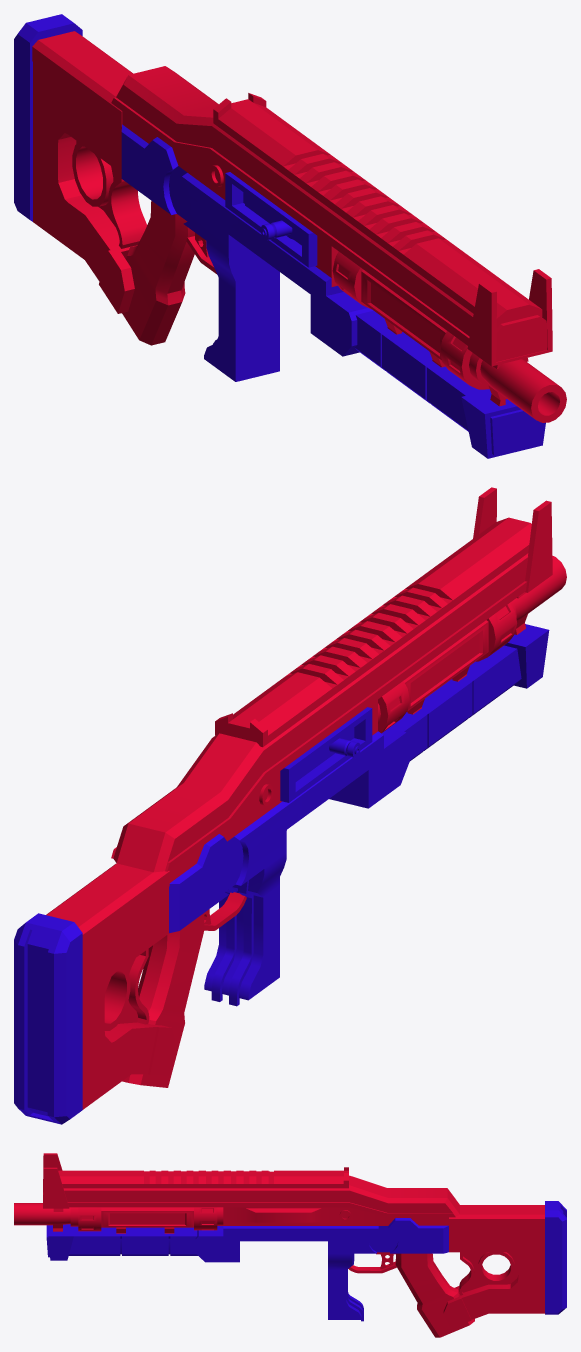
File: shotgun2.fbx
3 views of the same model, one above another, from view 1: azimuth 30°, elevation 25°; view 2: azimuth 150°, elevation 25°; view 3: azimuth 270°, elevation 25° (orthographic). The views are drawn at different scales.
Parts seen in each view (by area): view 1: Main, huinya, Zat; view 2: Main, huinya, Zat; view 3: Main, huinya.
Boxes of the visible parts, <box> form: Main: <box>14,14,566,458</box>; huinya: <box>213,93,542,327</box>; Zat: <box>243,192,301,245</box>; Main: <box>14,487,566,1124</box>; huinya: <box>215,517,531,747</box>; Zat: <box>295,727,360,781</box>; Main: <box>14,1153,566,1337</box>; huinya: <box>58,1167,348,1188</box>.
Size of the model in its own units: 6.1 by 23.75 by 68.1.
